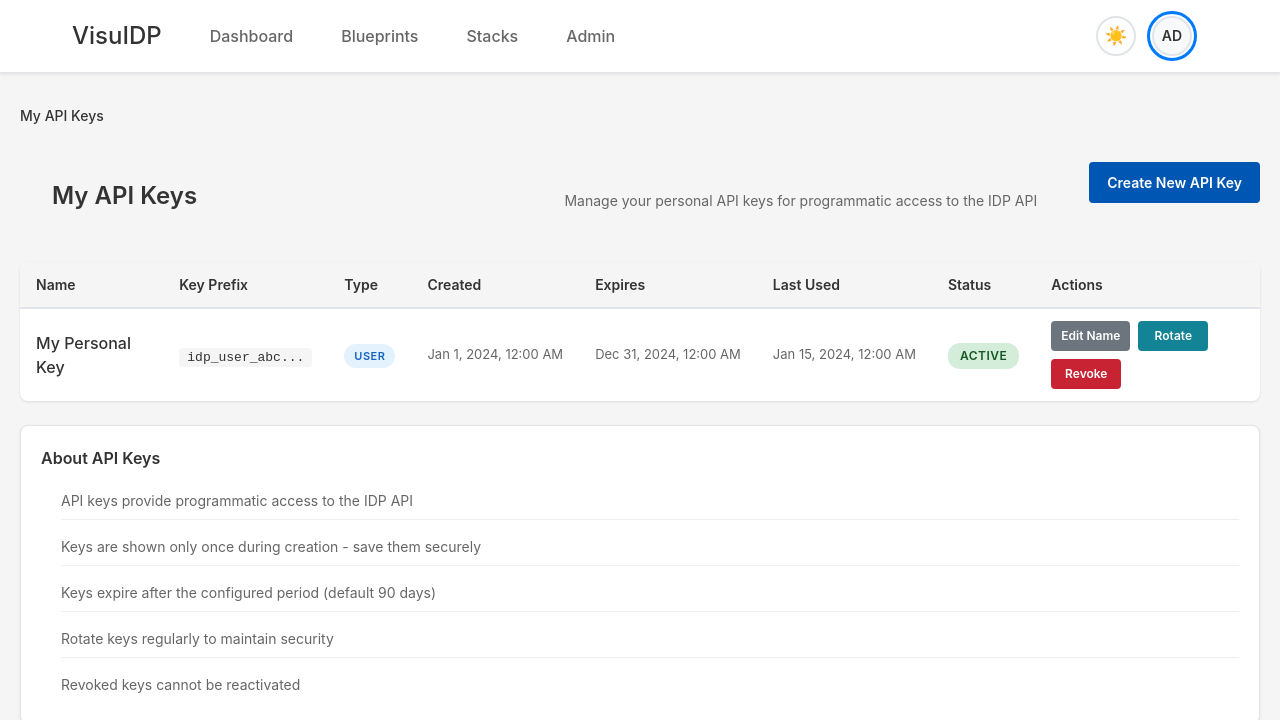
Test: Navigation and Routing Behavior Tests › Admin Access to Both Routes › should allow admins to navigate between personal and admin API keys pages
Expected: the heading "My API Keys" is shown, [52,178,197,214]
Note: Navigate to admin dashboard
Click the link "Admin": (591, 36) [566,26,615,46]
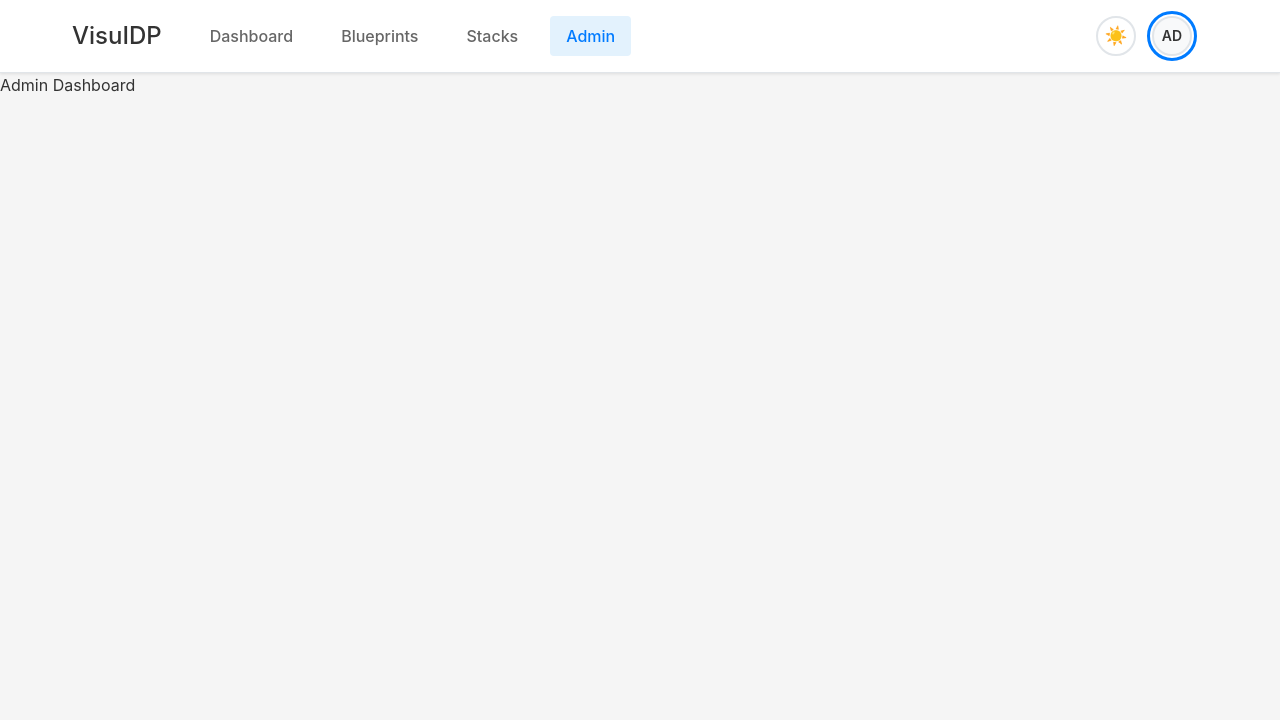
Now the text "Admin Dashboard" is shown, box [0,75,135,95]
